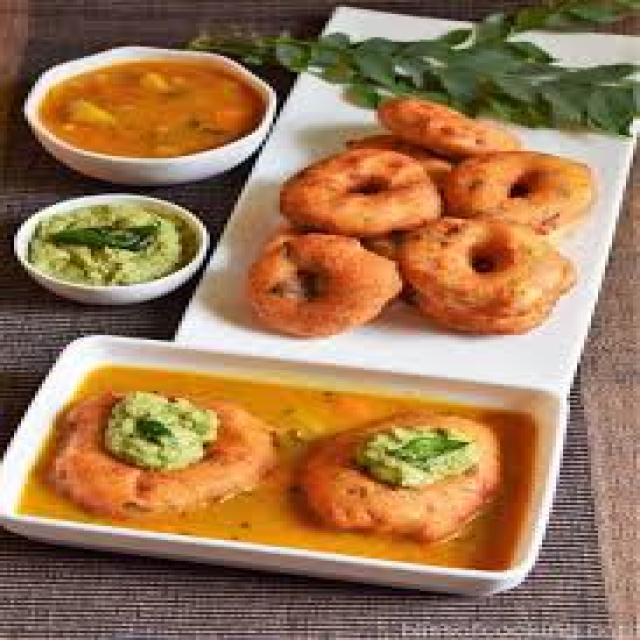MEDU VADA: (45, 391, 277, 521), (299, 410, 497, 543), (399, 216, 575, 339), (246, 233, 402, 339), (284, 150, 443, 237), (441, 154, 594, 228), (382, 99, 529, 162)
